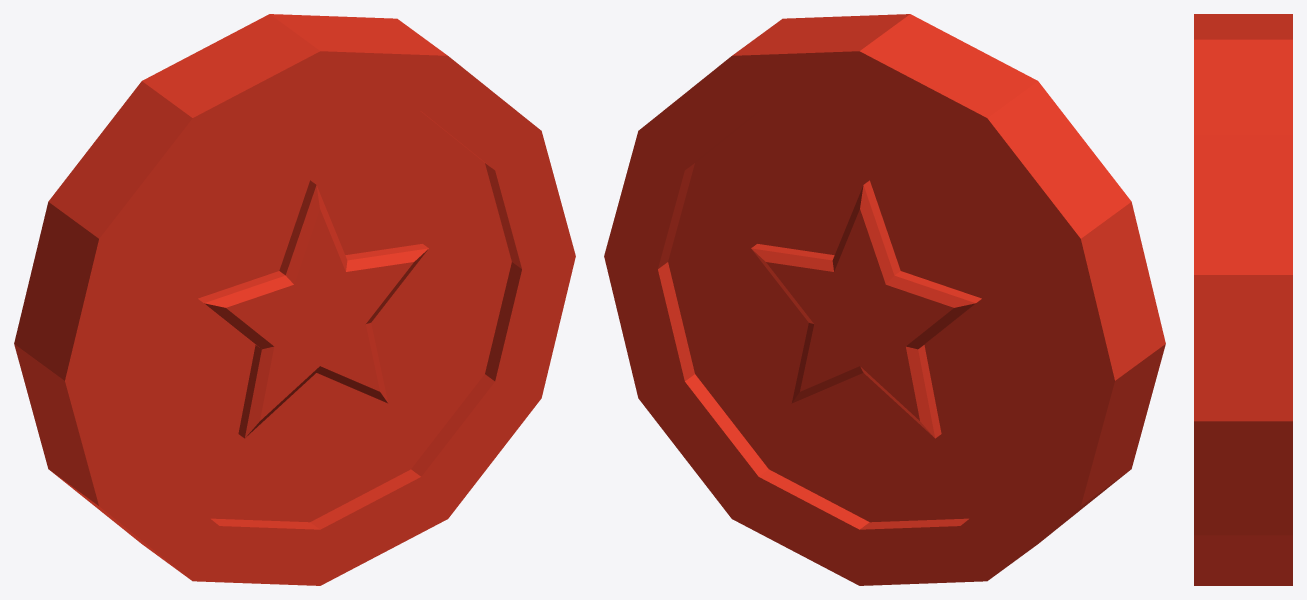
Rendered from Icon_Coin_03.fbx.
The picture shows the model from 3 angles, left to right: view 1: azimuth 30°, elevation 25°; view 2: azimuth 150°, elevation 25°; view 3: azimuth 270°, elevation 25°; orthographic projection. The views are drawn at different scales.
Parts seen in each view (by area): view 1: Icon_Coin_03; view 2: Icon_Coin_03; view 3: Icon_Coin_03.
Boxes of the visible parts, x1,y1,x2,y2 form: Icon_Coin_03: (14, 14, 575, 585); Icon_Coin_03: (604, 14, 1165, 585); Icon_Coin_03: (1194, 14, 1292, 585).
Size of the model in its own units: 70 by 70 by 12.06.
